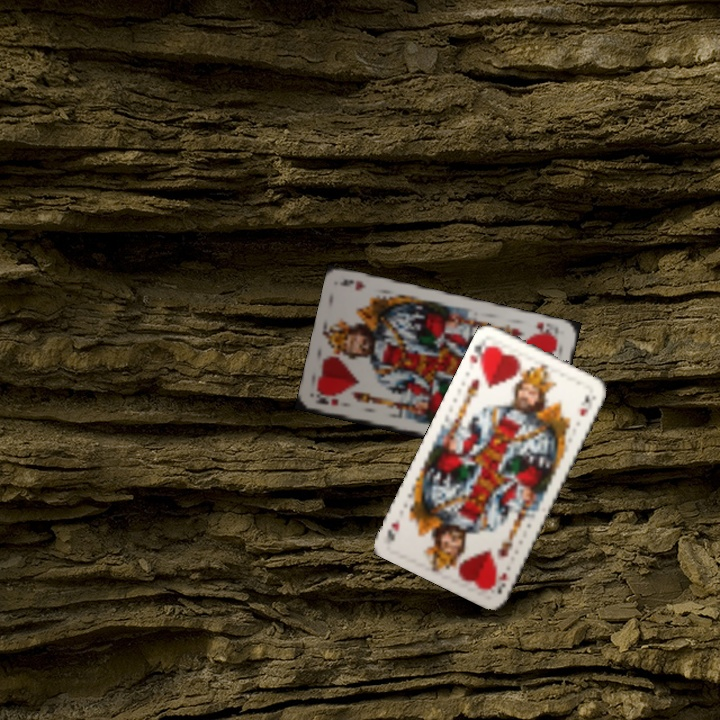HK: (466, 339, 494, 372), (528, 318, 560, 341), (487, 569, 510, 597), (311, 393, 342, 408)
